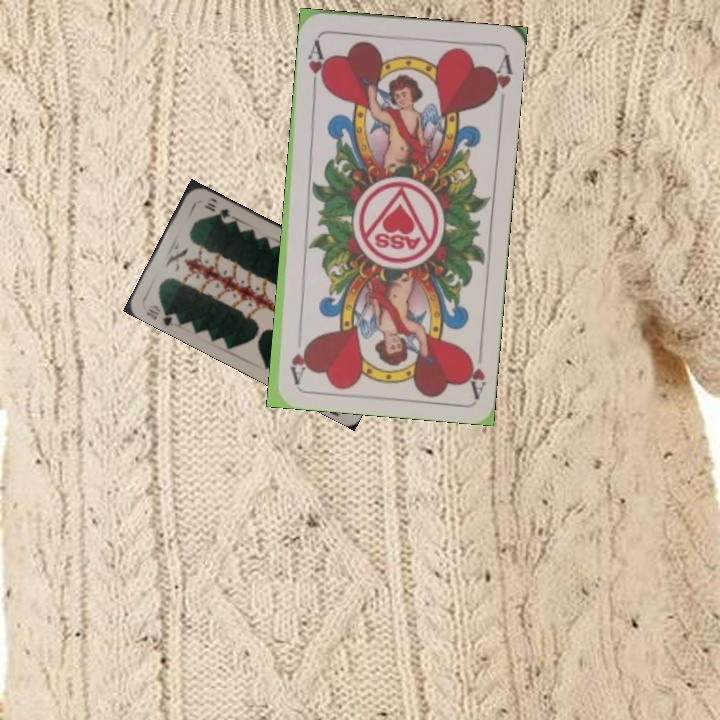G10: (142, 300, 181, 329)
HA: (462, 339, 489, 398), (304, 36, 330, 93)
